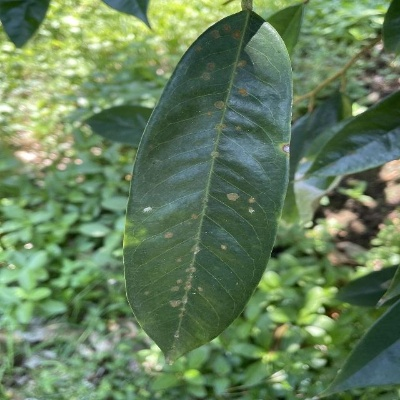Leaf_Algal: (83, 5, 298, 367)
